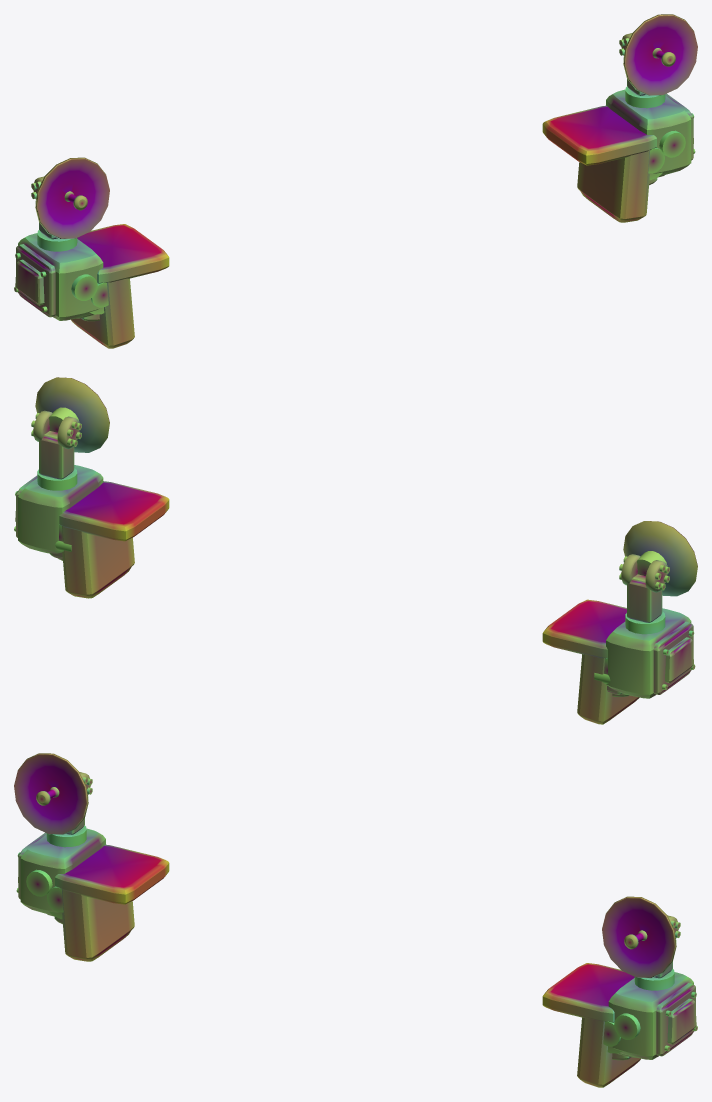
File: llm_gen_shoulder_pods_103_74a8ac.glb
3 renders of one model, top to bottom at view 1: azimuth 30°, elevation 25°; view 2: azimuth 150°, elevation 25°; view 3: azimuth 330°, elevation 25°, orthographic.
Visible parts, largest first — view 1: adapter_shoulder_yoke_r, adapter_shoulder_yoke_l, parabolic_dish_5_adapter_dark_r, parabolic_dish_5_adapter_dark_l, radar_housing_0_adapter_dark_l, radar_housing_0_adapter_dark_r, adapter_sub_ew_bezel_dark_7_adapter_dark_l, ew_side_plate_blue_8_cobalt_anodized_l, recon_optic_9_optic_cyan_l, recon_optic_9_optic_cyan_r, adapter_sub_azimuth_base_dark_1_adapter_dark_r, adapter_sub_azimuth_base_dark_1_adapter_dark_l; view 2: adapter_shoulder_yoke_r, adapter_shoulder_yoke_l, radar_housing_0_adapter_dark_r, radar_housing_0_adapter_dark_l, parabolic_dish_5_adapter_dark_r, parabolic_dish_5_adapter_dark_l, adapter_sub_dish_pedestal_dark_2_adapter_dark_r, adapter_sub_dish_pedestal_dark_2_adapter_dark_l, adapter_sub_ew_bezel_dark_7_adapter_dark_l, ew_side_plate_blue_8_cobalt_anodized_l, servo_3_servo_accent_r, servo_3_servo_accent_l (+2 smaller); view 3: adapter_shoulder_yoke_l, adapter_shoulder_yoke_r, parabolic_dish_5_adapter_dark_l, parabolic_dish_5_adapter_dark_r, radar_housing_0_adapter_dark_r, radar_housing_0_adapter_dark_l, adapter_sub_ew_bezel_dark_7_adapter_dark_r, ew_side_plate_blue_8_cobalt_anodized_r, recon_optic_9_optic_cyan_r, recon_optic_9_optic_cyan_l, adapter_sub_azimuth_base_dark_1_adapter_dark_l, adapter_sub_azimuth_base_dark_1_adapter_dark_r.
Part boxes in pixels (box(x1,y1,x2,y2)): adapter_shoulder_yoke_r: box(542, 105, 665, 222); adapter_shoulder_yoke_l: box(71, 224, 169, 348); parabolic_dish_5_adapter_dark_r: box(623, 14, 697, 95); parabolic_dish_5_adapter_dark_l: box(35, 157, 109, 239); radar_housing_0_adapter_dark_l: box(18, 233, 103, 320); radar_housing_0_adapter_dark_r: box(606, 89, 691, 175); adapter_sub_ew_bezel_dark_7_adapter_dark_l: box(16, 244, 55, 317); ew_side_plate_blue_8_cobalt_anodized_l: box(14, 253, 47, 312); recon_optic_9_optic_cyan_l: box(71, 274, 97, 300); recon_optic_9_optic_cyan_r: box(659, 130, 685, 157); adapter_sub_azimuth_base_dark_1_adapter_dark_r: box(625, 86, 665, 108); adapter_sub_azimuth_base_dark_1_adapter_dark_l: box(37, 230, 77, 251); adapter_shoulder_yoke_r: box(58, 481, 169, 598); adapter_shoulder_yoke_l: box(542, 599, 639, 724); radar_housing_0_adapter_dark_r: box(18, 465, 103, 553); radar_housing_0_adapter_dark_l: box(606, 608, 691, 698); parabolic_dish_5_adapter_dark_r: box(35, 377, 109, 452); parabolic_dish_5_adapter_dark_l: box(623, 521, 697, 596); adapter_sub_dish_pedestal_dark_2_adapter_dark_r: box(39, 431, 74, 479); adapter_sub_dish_pedestal_dark_2_adapter_dark_l: box(627, 574, 662, 622); adapter_sub_ew_bezel_dark_7_adapter_dark_l: box(653, 621, 693, 694); ew_side_plate_blue_8_cobalt_anodized_l: box(662, 630, 695, 689); servo_3_servo_accent_r: box(33, 410, 79, 449); servo_3_servo_accent_l: box(621, 554, 667, 592); adapter_shoulder_yoke_l: box(46, 844, 169, 961); adapter_shoulder_yoke_r: box(542, 963, 640, 1087); parabolic_dish_5_adapter_dark_l: box(14, 753, 88, 834); parabolic_dish_5_adapter_dark_r: box(602, 896, 676, 978); radar_housing_0_adapter_dark_r: box(608, 972, 693, 1059); radar_housing_0_adapter_dark_l: box(20, 828, 105, 914); adapter_sub_ew_bezel_dark_7_adapter_dark_r: box(656, 983, 695, 1056); ew_side_plate_blue_8_cobalt_anodized_r: box(664, 992, 697, 1051); recon_optic_9_optic_cyan_r: box(614, 1013, 640, 1039); recon_optic_9_optic_cyan_l: box(26, 869, 52, 896); adapter_sub_azimuth_base_dark_1_adapter_dark_l: box(46, 825, 86, 847); adapter_sub_azimuth_base_dark_1_adapter_dark_r: box(634, 969, 674, 990).
Size of the model in its own units: 107 by 29.43 by 13.53.
